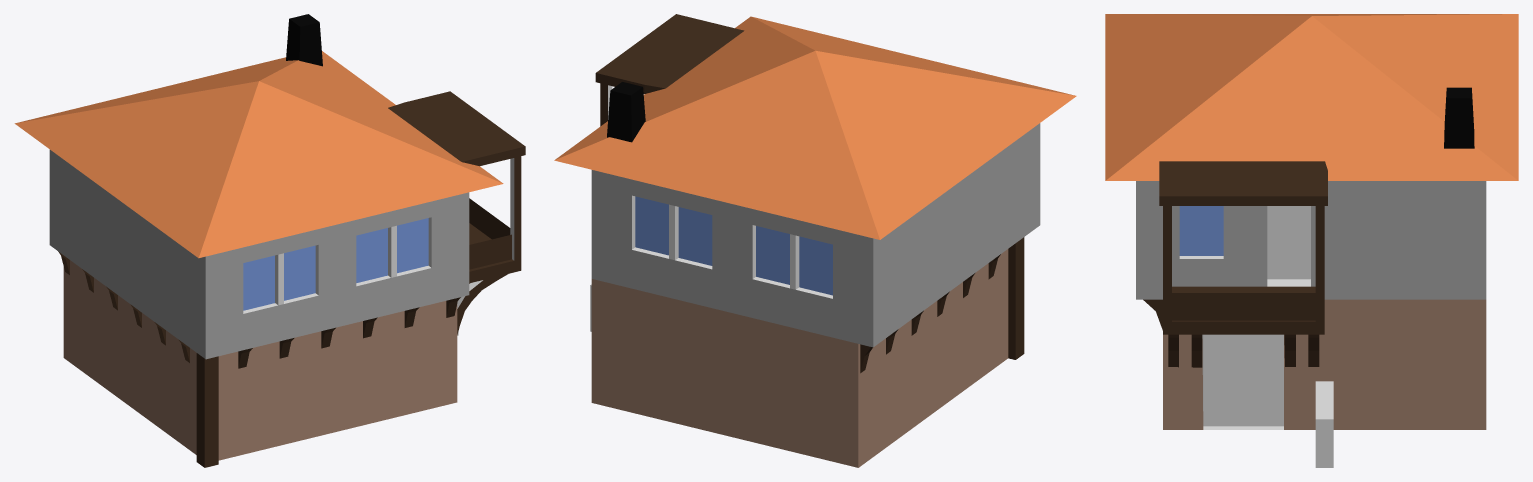
File: house.fbx
3 renders of one model, left to right at view 1: azimuth 30°, elevation 25°; view 2: azimuth 150°, elevation 25°; view 3: azimuth 270°, elevation 25°, orthographic. The views are drawn at different scales.
Parts seen in each view (by area): view 1: cuboid.011; view 2: cuboid.011; view 3: cuboid.011.
Part boxes in pixels (x1,y1,x2,y2): cuboid.011: (14,14,525,467); cuboid.011: (554,14,1076,467); cuboid.011: (1105,14,1518,467).
Bounding box in the file's own units: 79.69 × 65.63 × 71.87.
